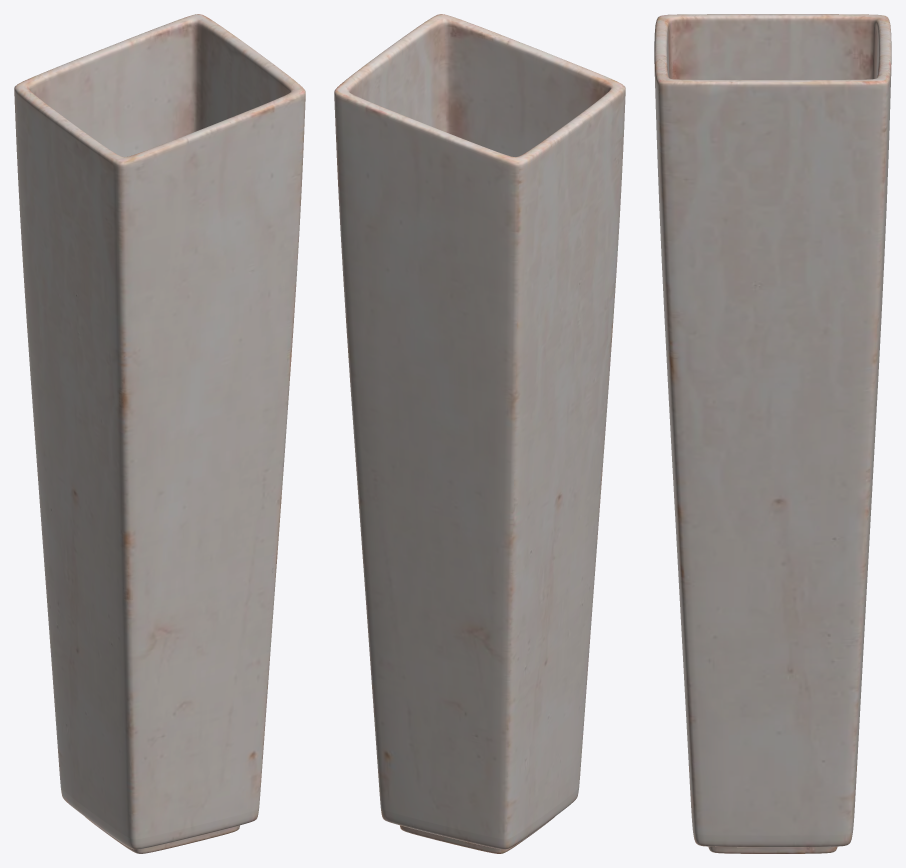
The model's file is ceramic_vase_03.glb.
3 views of the same model, side by side, from view 1: azimuth 30°, elevation 25°; view 2: azimuth 150°, elevation 25°; view 3: azimuth 270°, elevation 25° (orthographic). The views are drawn at different scales.
Visible parts, largest first — view 1: ceramic_vase_03; view 2: ceramic_vase_03; view 3: ceramic_vase_03.
Part boxes in pixels (<box>): ceramic_vase_03: <box>14,14,305,853</box>; ceramic_vase_03: <box>334,14,625,853</box>; ceramic_vase_03: <box>654,14,891,853</box>.
Size of the model in its own units: 0.1123 by 0.4144 by 0.1123.
1 material, 1 textured.
